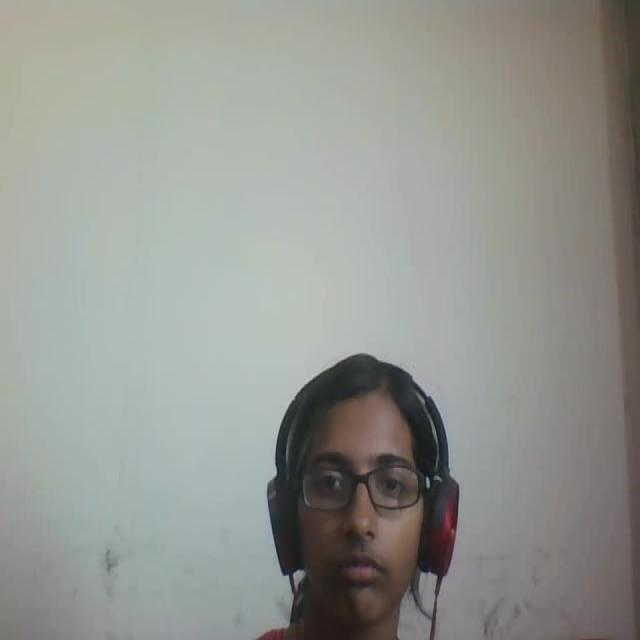Engaged: (235, 334, 490, 640)
